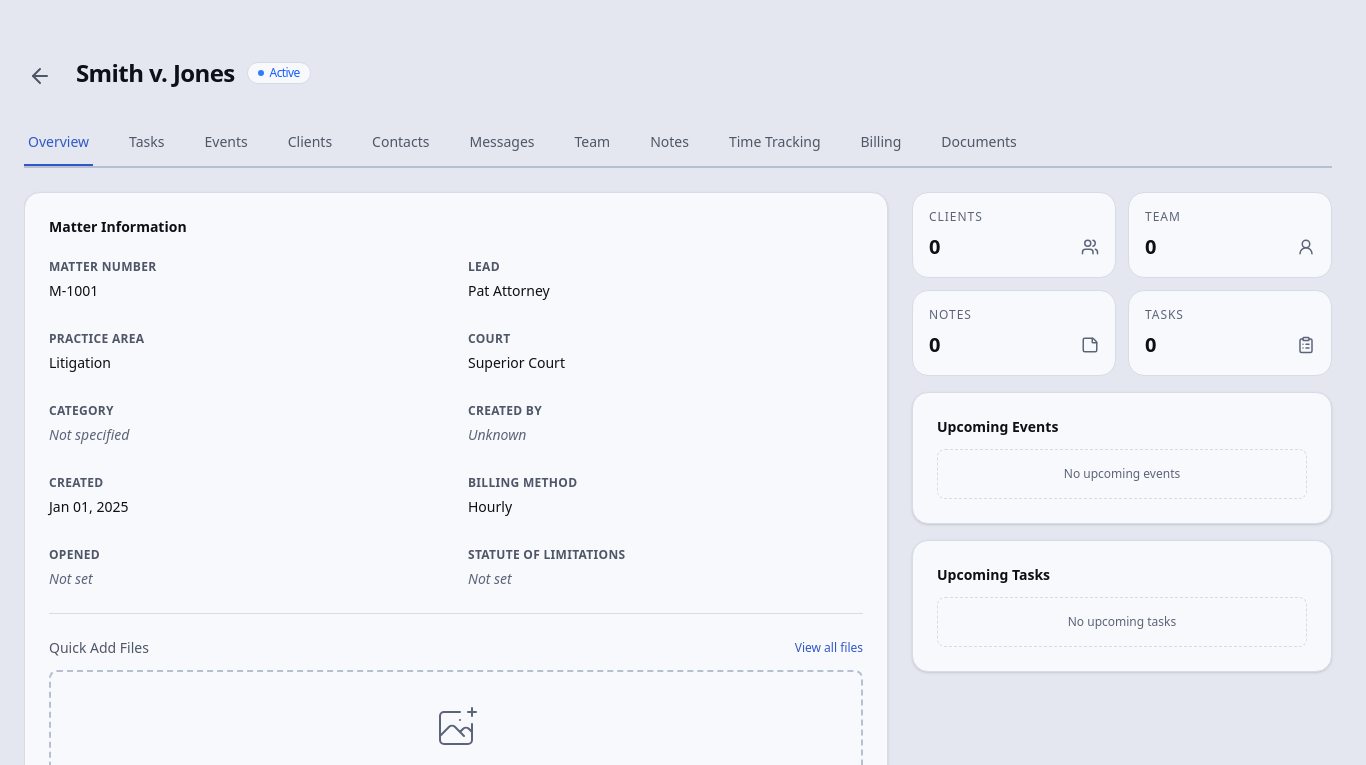
Test: narrow role behavior › hides Create Invoice on the Billing tab from a member who cannot manage invoices
This screenshot has width=1366, height=765.
Expected: the heading "Smith v. Jones Active" is shown, [76,56,311,89]
Click the button "Billing": coordinates (881, 143) [856,120,905,166]
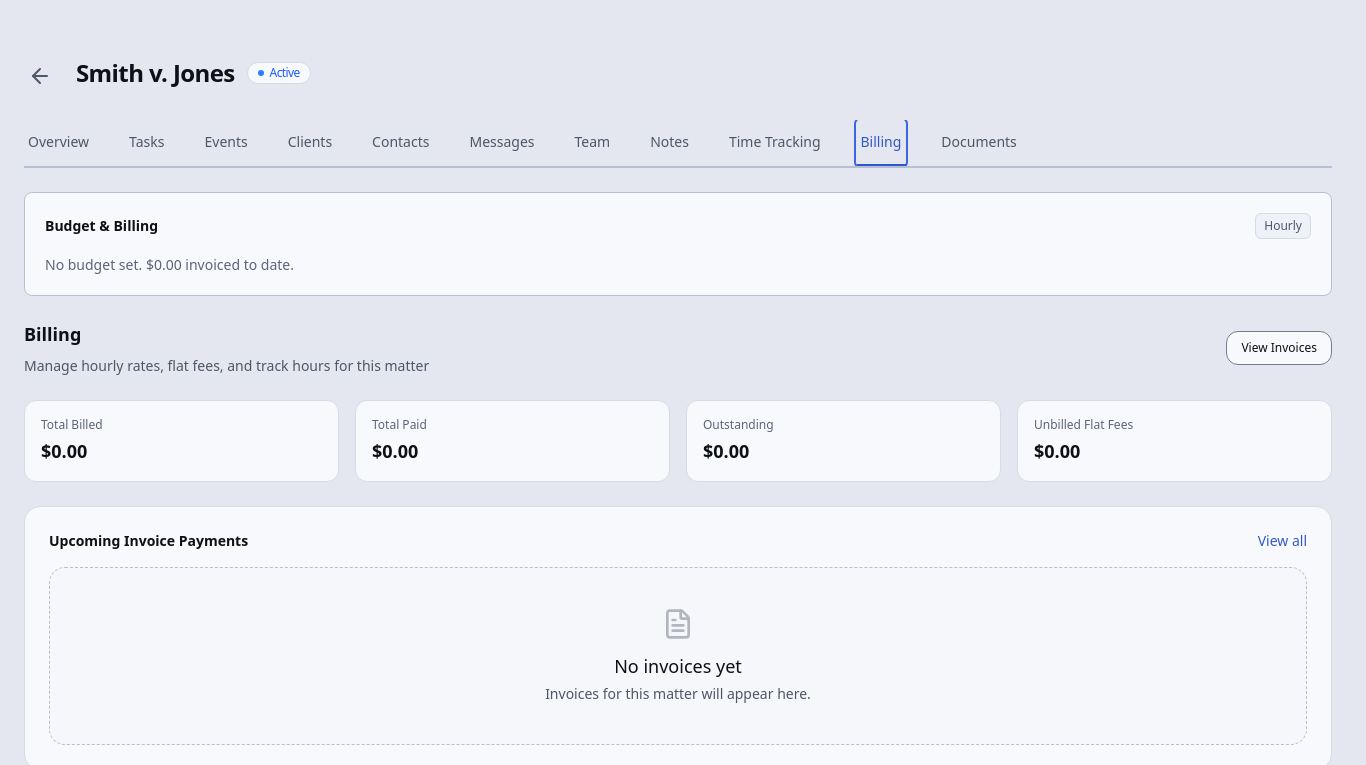
Expected: the button "View Invoices" is shown, [1226,331,1332,365]
